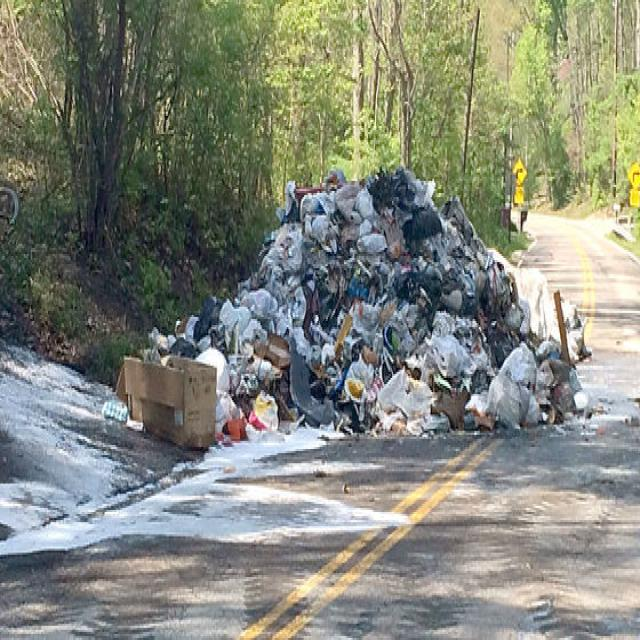garbage: (115, 163, 615, 454)
